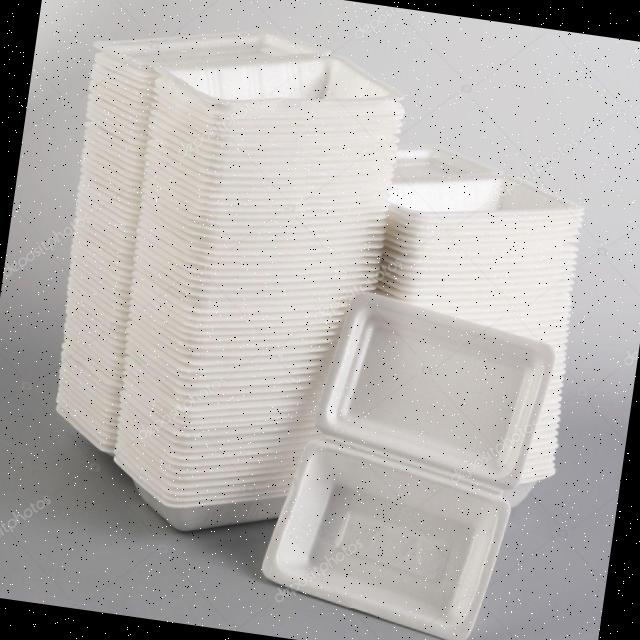styrofoam: (28, 7, 416, 554), (254, 280, 566, 640)
